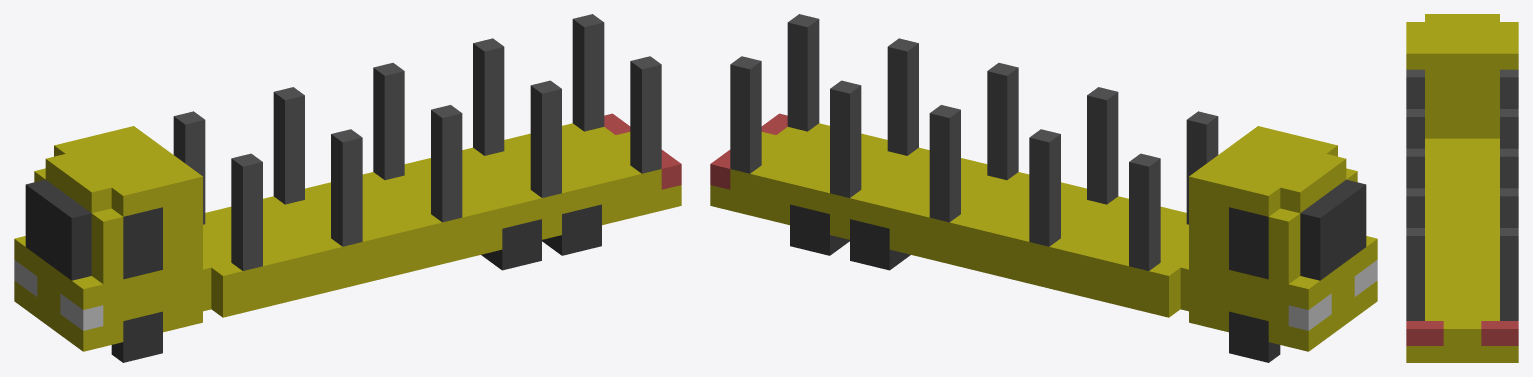
Rendered from truck-v5-yellow.gltf.
The picture shows the model from 3 angles, left to right: view 1: azimuth 30°, elevation 25°; view 2: azimuth 150°, elevation 25°; view 3: azimuth 270°, elevation 25°; orthographic projection. The views are drawn at different scales.
Visible parts, largest first — view 1: model, wheels; view 2: model, wheels; view 3: model.
Boxes of the visible parts, bbox=[...] form: model: bbox=[14, 14, 681, 351]; wheels: bbox=[111, 204, 601, 362]; model: bbox=[710, 14, 1377, 351]; wheels: bbox=[790, 204, 1280, 362]; model: bbox=[1406, 14, 1518, 362].
Bounding box in the file's own units: 3 × 0.8 × 0.6.
2 materials, 2 textured.
